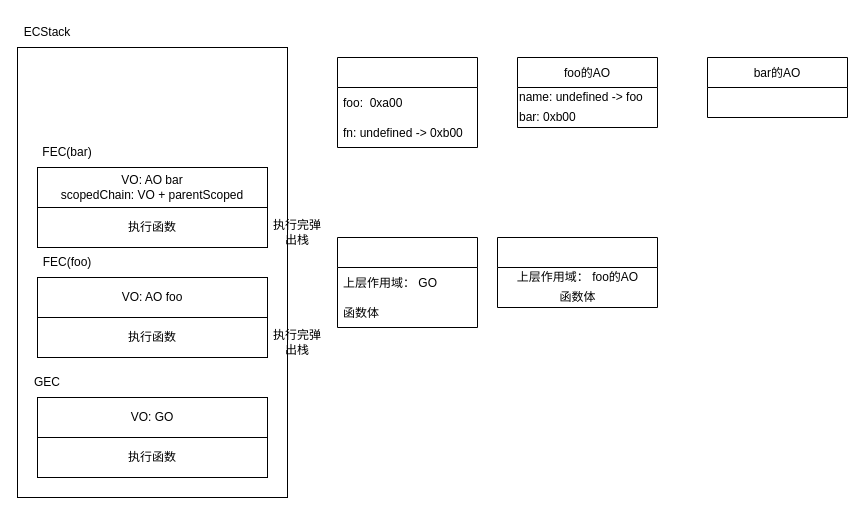
Image size: 865x515. Some labels were removed from this diagram. Here are the shapes that lost their labels. From the top down, the box of each, then its label:
(336, 56, 478, 148): GO
(336, 236, 478, 328): foo函数对象 0xa00
(496, 236, 658, 308): bar函数对象 0xb00
